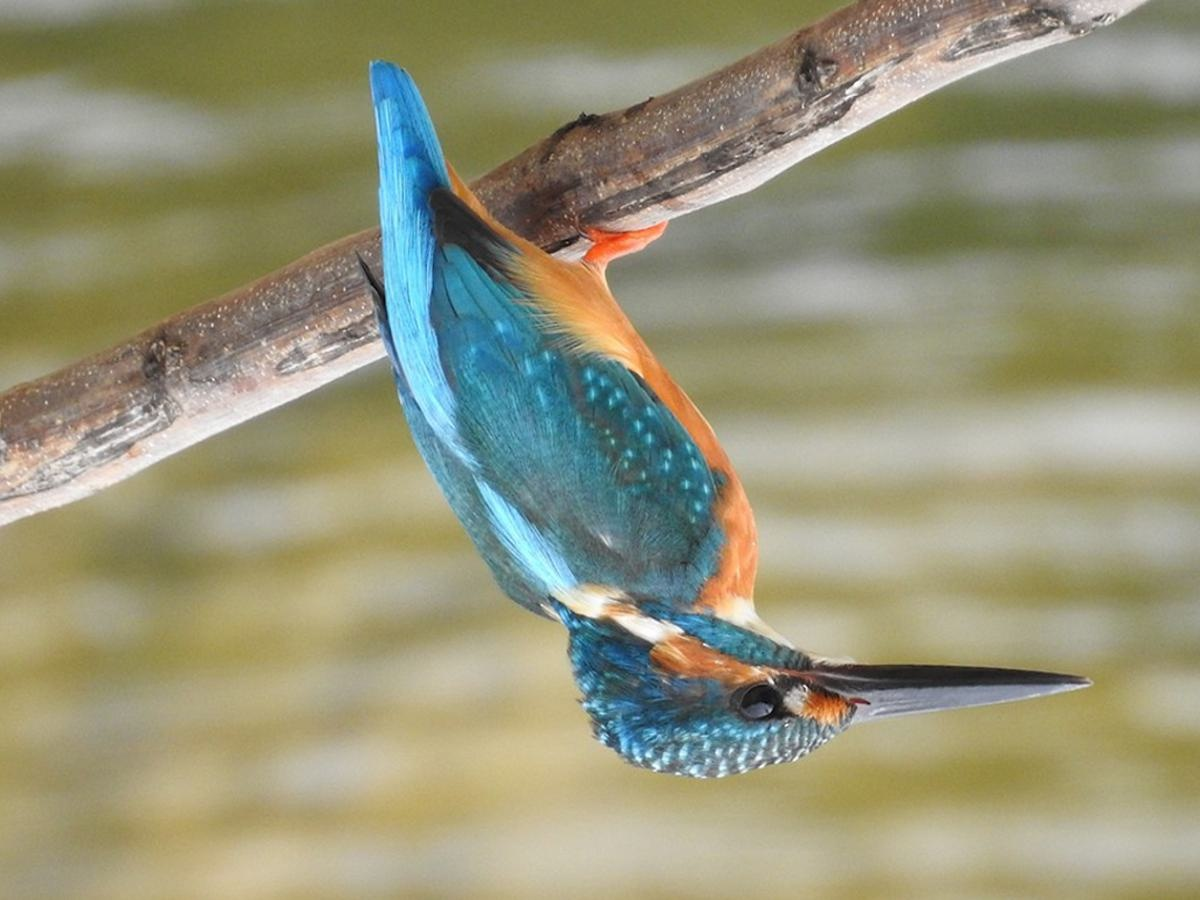kingfisher: (306, 67, 1104, 778)
